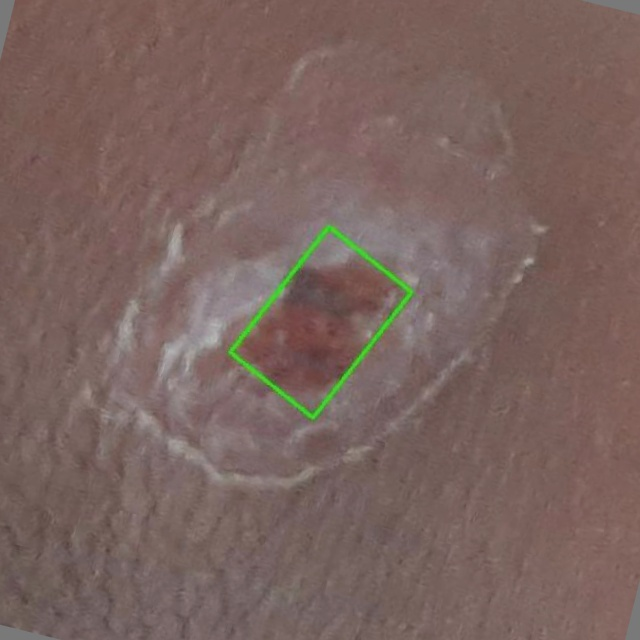Eczema: (230, 227, 412, 418)
